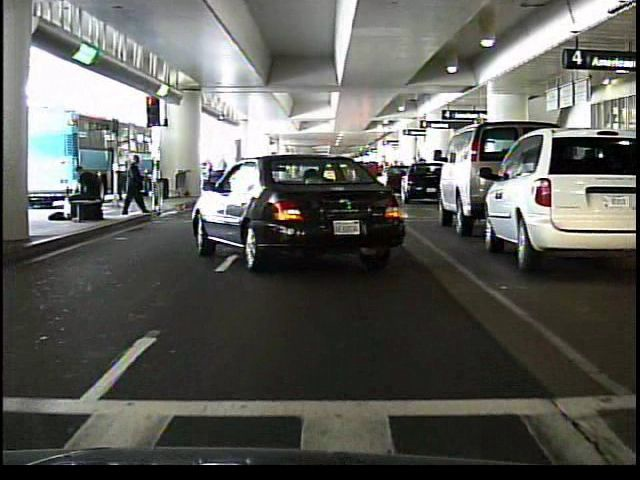person: (65, 163, 102, 228), (116, 149, 144, 215)
